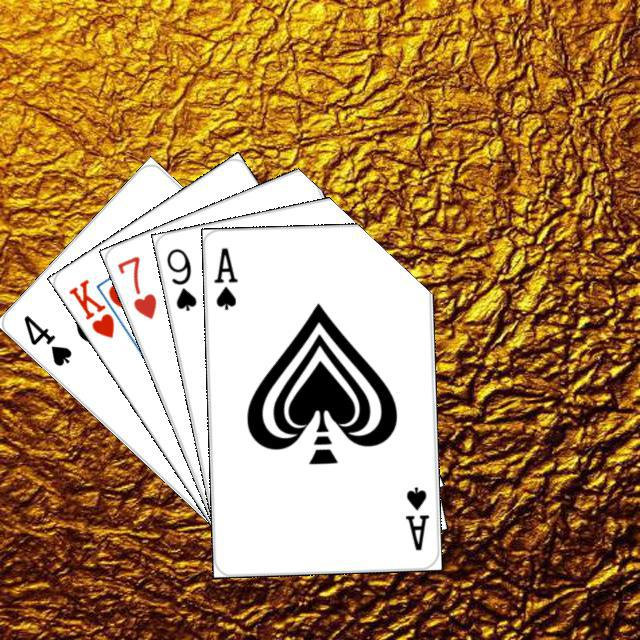4s: (18, 310, 74, 368)
7h: (112, 251, 159, 321)
9s: (161, 243, 199, 313)
As: (209, 242, 240, 312), (401, 481, 431, 552)
Kh: (63, 274, 132, 340)
